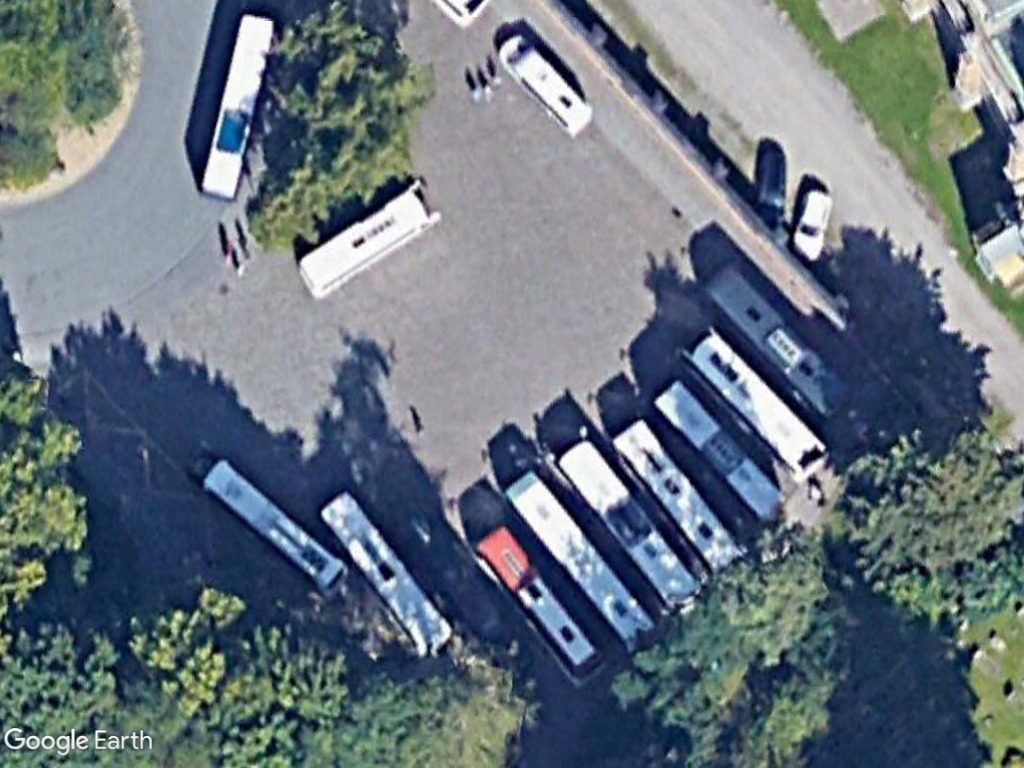bus: (504, 465, 661, 654), (557, 434, 699, 616), (193, 454, 355, 604), (681, 323, 831, 485), (467, 520, 608, 692), (316, 487, 454, 657), (705, 260, 851, 418), (602, 415, 742, 578), (652, 375, 794, 527), (192, 5, 276, 210)
car: (788, 184, 840, 266)
van: (494, 30, 596, 138)
